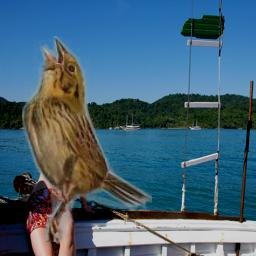Sparrow: (22, 36, 152, 242)
